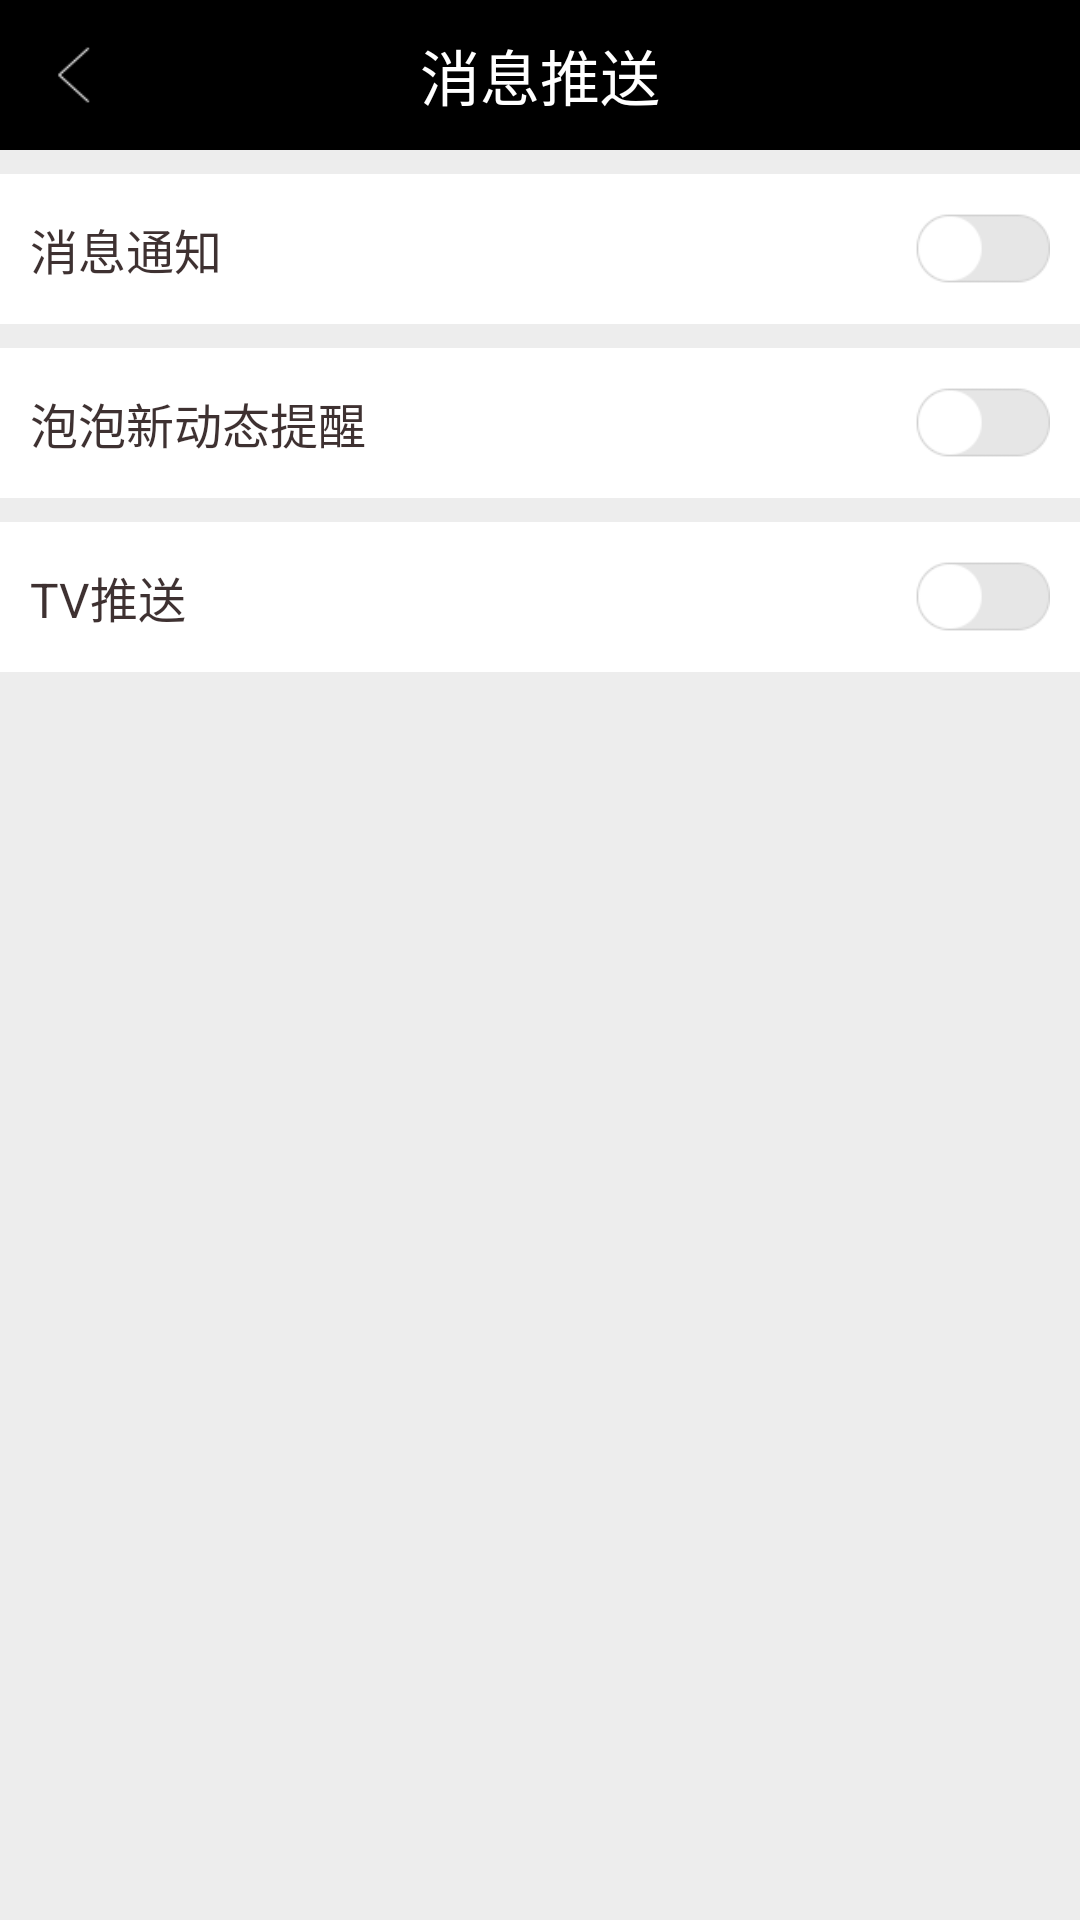

Where icons sit on this 1080*1920 app screen, as (x1, y1, x2, y2):
phone account back: (58, 47, 90, 103)
phone my setting switch: (917, 215, 1050, 282), (917, 389, 1050, 456), (917, 563, 1050, 630)
